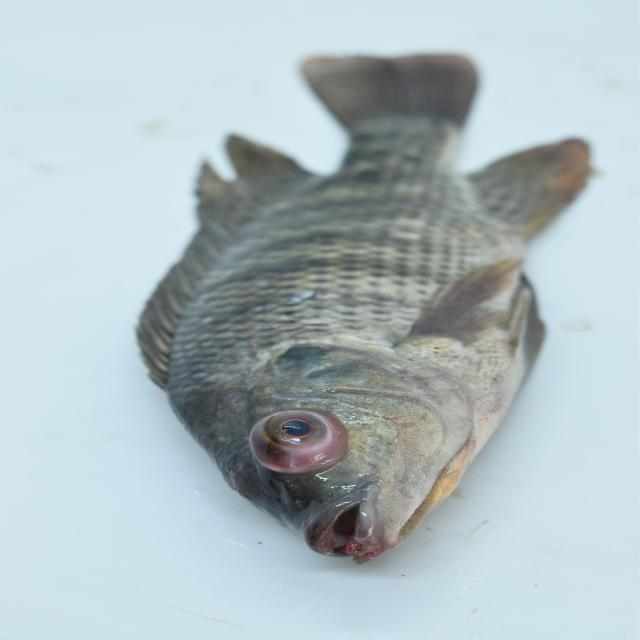Columnaris Disease: (118, 16, 618, 619)
